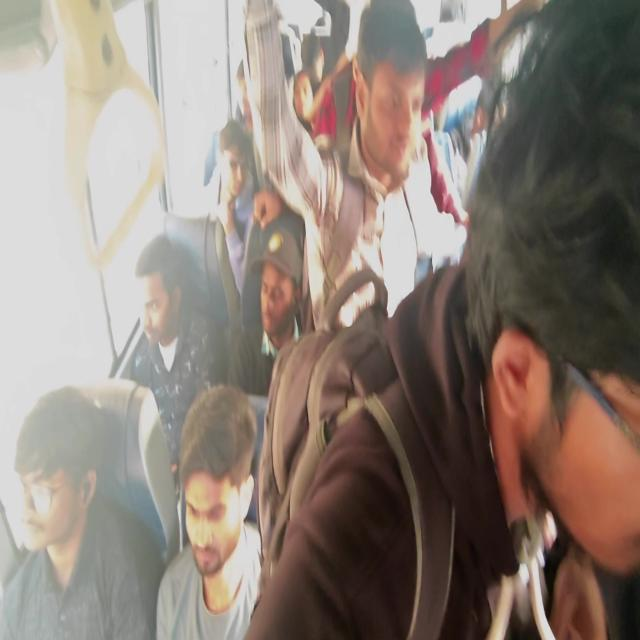person: (465, 75, 640, 639), (7, 392, 136, 632), (150, 400, 266, 603), (356, 0, 439, 189), (126, 213, 207, 405), (208, 121, 270, 272), (242, 253, 308, 391), (448, 79, 499, 175), (278, 64, 325, 143), (292, 27, 335, 74)
